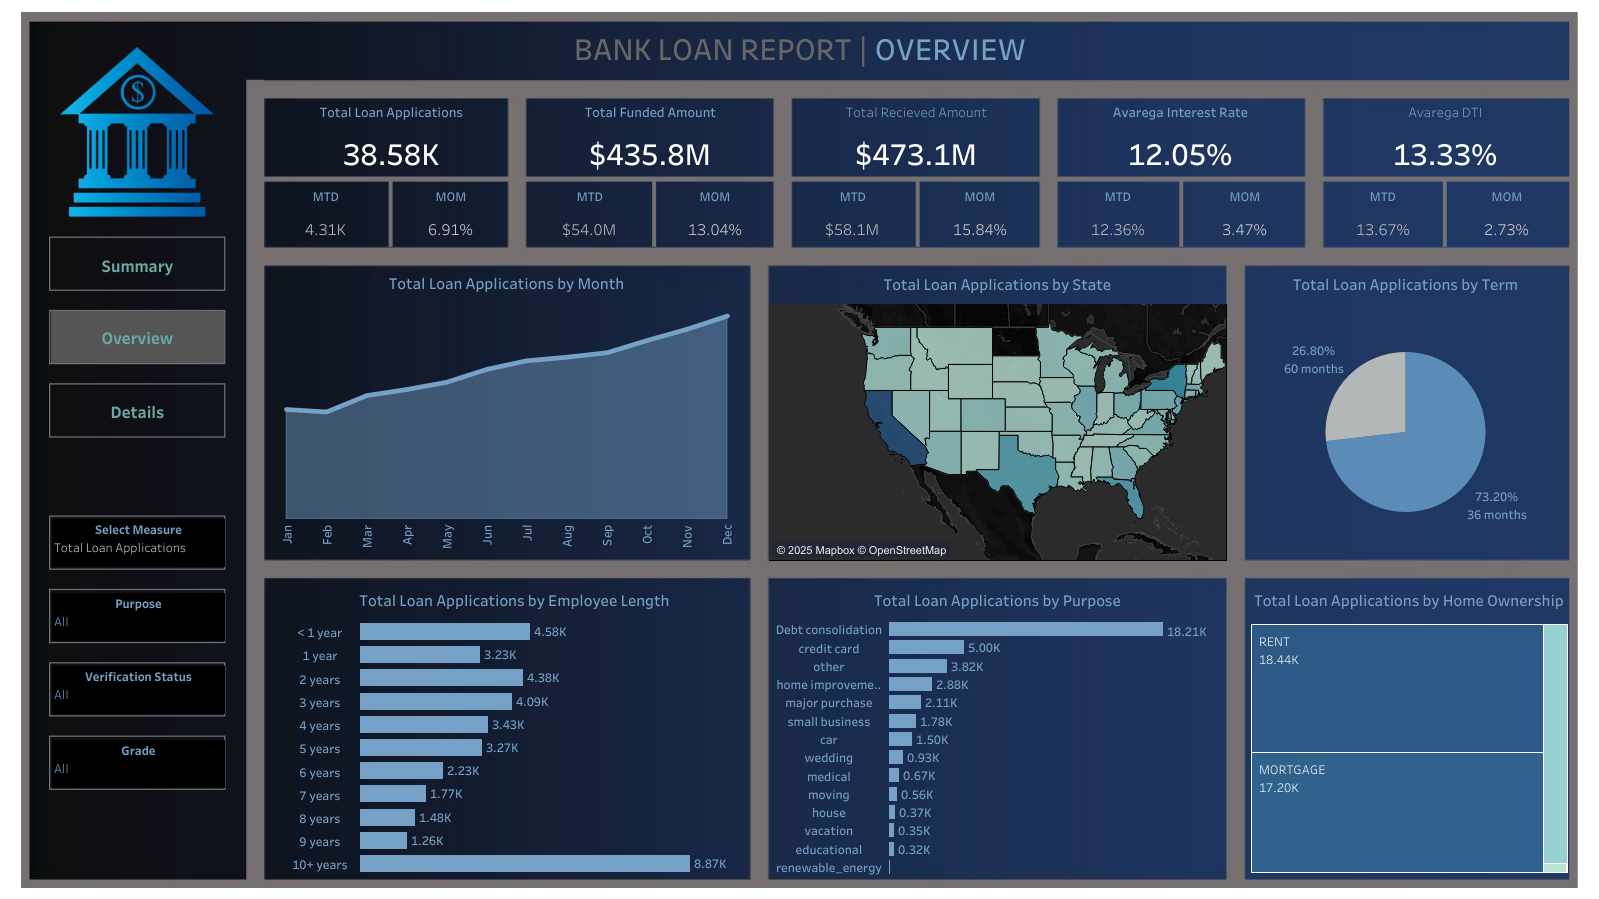

Layout of this report page (visuals, bound fields, positions):
{"tool":"tableau","page":{"name":"Overview","canvas":[1600,900],"ordinal":1},"visuals":[{"type":"image","param":"Image/overview-01.jpg","box":[8,8,1584,884]},{"type":"text","box":[400,8,800,80]},{"type":"worksheet","title":"Total Loan Applications","mark":"Automatic","box":[269,96,245,81]},{"type":"worksheet","title":"Total Funded Amount","mark":"Automatic","box":[528,96,245,81]},{"type":"worksheet","title":"Total Recieved Amount","mark":"Automatic","box":[794,96,245,81]},{"type":"worksheet","title":"Avarega Interest Rate","mark":"Automatic","box":[1058,96,245,81]},{"type":"worksheet","title":"Avarega DTI","mark":"Automatic","box":[1323,96,245,81]},{"type":"worksheet","title":"MTD Total Loan Applications","mark":"Automatic","box":[273,181,106,63]},{"type":"worksheet","title":"MOM Total Loan Applications","mark":"Automatic","box":[398,181,106,63]},{"type":"worksheet","title":"MTD Total Funded Amount","mark":"Automatic","box":[537,181,106,63]},{"type":"worksheet","title":"MOM Total Funded Amount","mark":"Automatic","box":[662,181,106,63]},{"type":"worksheet","title":"MTD Total Received Amount","mark":"Automatic","box":[800,181,106,63]},{"type":"worksheet","title":"MOM Total Received Amount","mark":"Automatic","box":[927,181,106,63]},{"type":"worksheet","title":"MTD Average Interest Rate","mark":"Automatic","box":[1065,181,106,63]},{"type":"worksheet","title":"MOM Average Interest Rate","mark":"Automatic","box":[1192,181,106,63]},{"type":"worksheet","title":"MTD Average DTI","mark":"Automatic","box":[1330,181,106,63]},{"type":"worksheet","title":"MOM Average DTI","mark":"Automatic","box":[1454,181,106,63]},{"type":"dashboard-object","box":[51,239,173,52]},{"type":"worksheet","title":"Month","mark":"Area","rows":["Calculation_152277994916372511","Calculation_152277994916372511"],"cols":["con_issue_date"],"box":[266,266,481,293]},{"type":"worksheet","title":"State","mark":"Multipolygon","box":[769,267,457,293]},{"type":"worksheet","title":"Term","mark":"Pie","rows":["Calculation_152277994924888097"],"box":[1245,267,321,293]},{"type":"dashboard-object","box":[51,311,173,52]},{"type":"dashboard-object","box":[51,385,173,52]},{"type":"parameter","param":"[Parameters].[Parameter 1]","box":[52,519,173,48]},{"type":"worksheet","title":"Emp Lenght","mark":"Automatic","rows":["emp_length"],"cols":["Calculation_152277994916372511"],"box":[280,583,469,293]},{"type":"worksheet","title":"Purpose","mark":"Automatic","rows":["purpose"],"cols":["Calculation_152277994916372511"],"box":[769,583,457,293]},{"type":"worksheet","title":"Home Ownership","mark":"Automatic","box":[1247,583,324,293]},{"type":"filter","title":"Avarega DTI","param":"[federated.054zzhb0m2kzyd1e27fpj0euf85e].[none:purpose:nk]","box":[52,593,173,48]},{"type":"filter","title":"Avarega DTI","param":"[federated.054zzhb0m2kzyd1e27fpj0euf85e].[none:verification_status:nk]","box":[52,666,173,48]},{"type":"filter","title":"Avarega DTI","param":"[federated.054zzhb0m2kzyd1e27fpj0euf85e].[none:grade:nk]","box":[52,740,173,48]}]}

Visuals, with their boxes in screenshot pixels (x1, y1, x2, y2), scaled from the page's 1600x900 canvas onto the 1599x899 screenshot:
image: <bbox>8, 8, 1591, 891</bbox>
text: <bbox>400, 8, 1199, 88</bbox>
"Total Loan Applications" worksheet: <bbox>269, 96, 514, 177</bbox>
"Total Funded Amount" worksheet: <bbox>528, 96, 773, 177</bbox>
"Total Recieved Amount" worksheet: <bbox>794, 96, 1038, 177</bbox>
"Avarega Interest Rate" worksheet: <bbox>1057, 96, 1302, 177</bbox>
"Avarega DTI" worksheet: <bbox>1322, 96, 1567, 177</bbox>
"MTD Total Loan Applications" worksheet: <bbox>273, 181, 379, 244</bbox>
"MOM Total Loan Applications" worksheet: <bbox>398, 181, 504, 244</bbox>
"MTD Total Funded Amount" worksheet: <bbox>537, 181, 643, 244</bbox>
"MOM Total Funded Amount" worksheet: <bbox>662, 181, 768, 244</bbox>
"MTD Total Received Amount" worksheet: <bbox>800, 181, 905, 244</bbox>
"MOM Total Received Amount" worksheet: <bbox>926, 181, 1032, 244</bbox>
"MTD Average Interest Rate" worksheet: <bbox>1064, 181, 1170, 244</bbox>
"MOM Average Interest Rate" worksheet: <bbox>1191, 181, 1297, 244</bbox>
"MTD Average DTI" worksheet: <bbox>1329, 181, 1435, 244</bbox>
"MOM Average DTI" worksheet: <bbox>1453, 181, 1559, 244</bbox>
dashboard-object: <bbox>51, 239, 224, 291</bbox>
"Month" worksheet (Area marks): <bbox>266, 266, 747, 558</bbox>
"State" worksheet (Multipolygon marks): <bbox>769, 267, 1225, 559</bbox>
"Term" worksheet (Pie marks): <bbox>1244, 267, 1565, 559</bbox>
dashboard-object: <bbox>51, 311, 224, 363</bbox>
dashboard-object: <bbox>51, 385, 224, 437</bbox>
parameter: <bbox>52, 518, 225, 566</bbox>
"Emp Lenght" worksheet: <bbox>280, 582, 749, 875</bbox>
"Purpose" worksheet: <bbox>769, 582, 1225, 875</bbox>
"Home Ownership" worksheet: <bbox>1246, 582, 1570, 875</bbox>
"Avarega DTI" filter: <bbox>52, 592, 225, 640</bbox>
"Avarega DTI" filter: <bbox>52, 665, 225, 713</bbox>
"Avarega DTI" filter: <bbox>52, 739, 225, 787</bbox>
